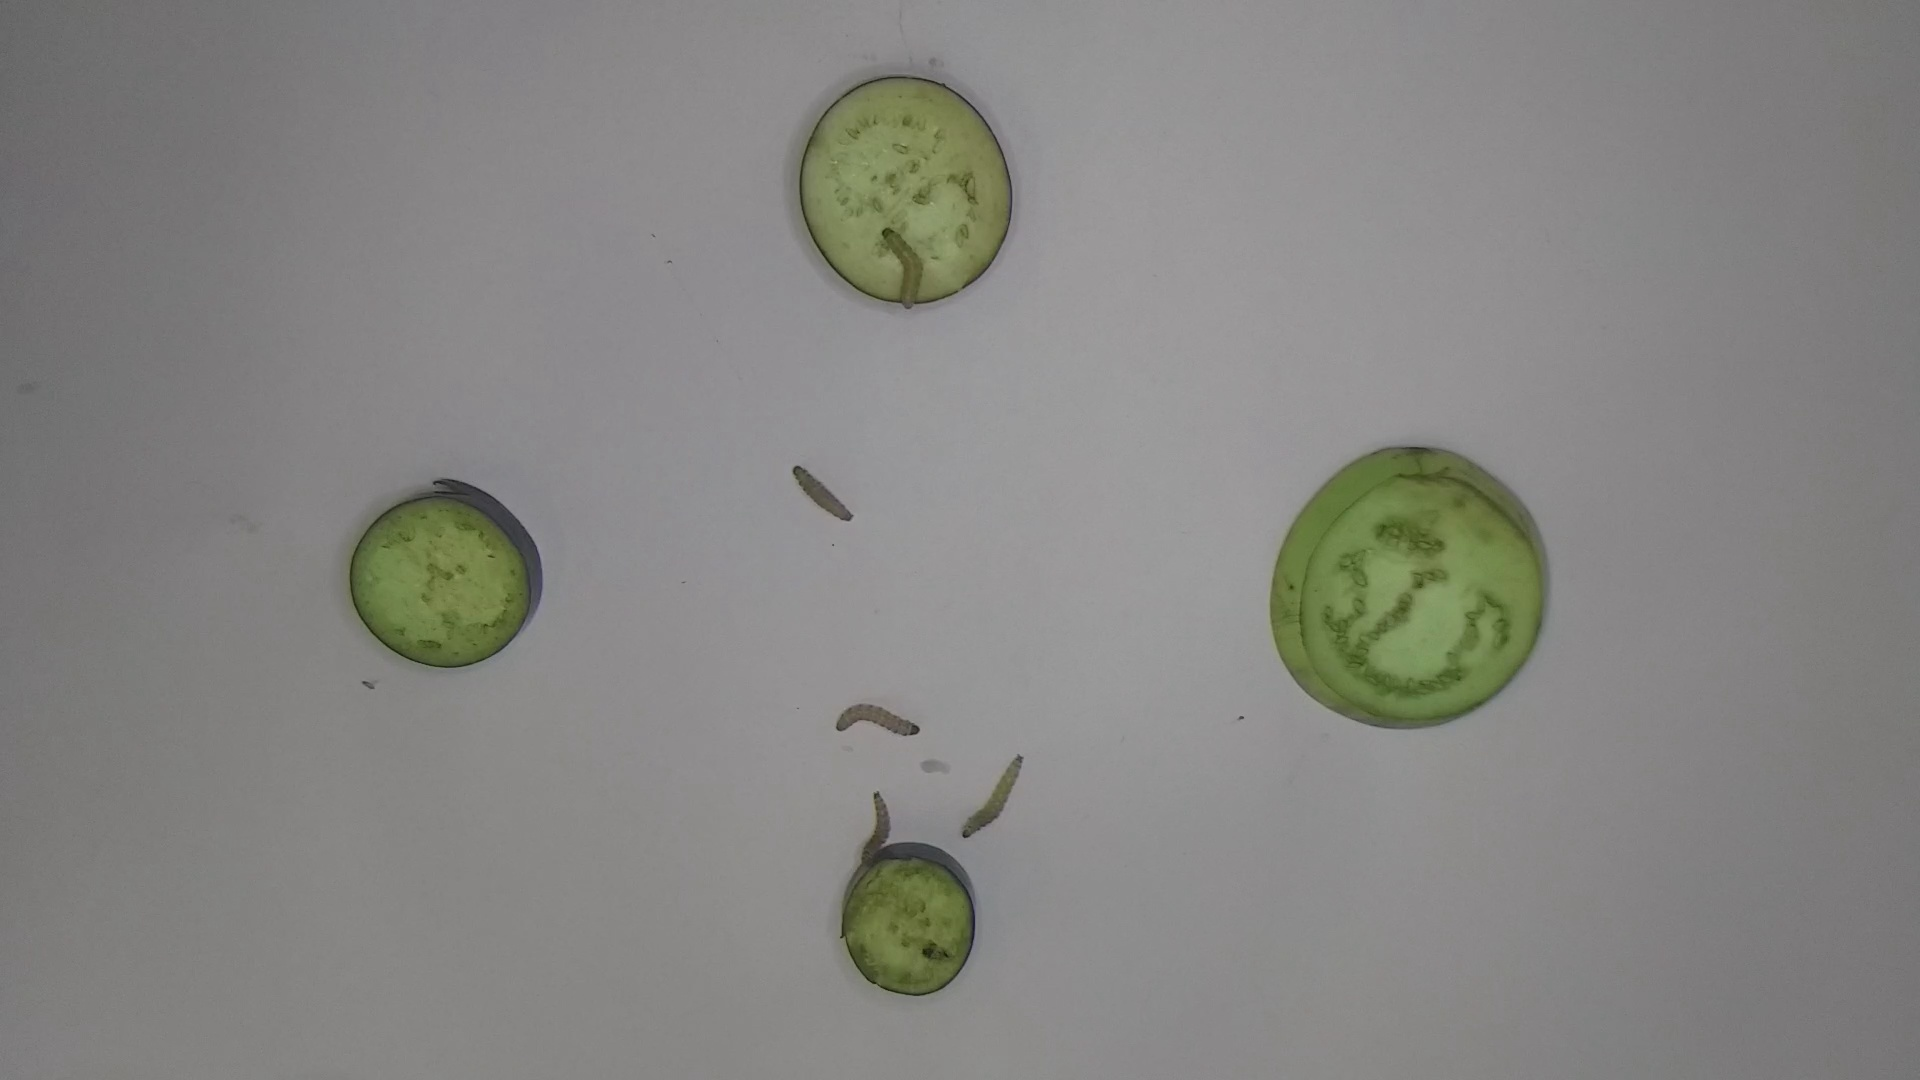efsb: (961, 744, 1034, 851), (782, 451, 857, 531), (829, 696, 932, 741), (872, 225, 924, 310), (858, 785, 893, 872)
eggplant: (1265, 442, 1559, 744), (793, 62, 1015, 316), (342, 472, 556, 680), (832, 833, 982, 1005)
